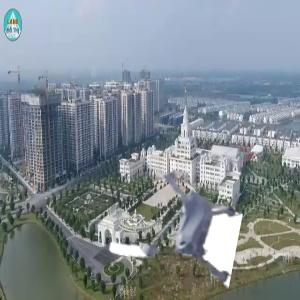drone: (109, 146, 244, 281)
